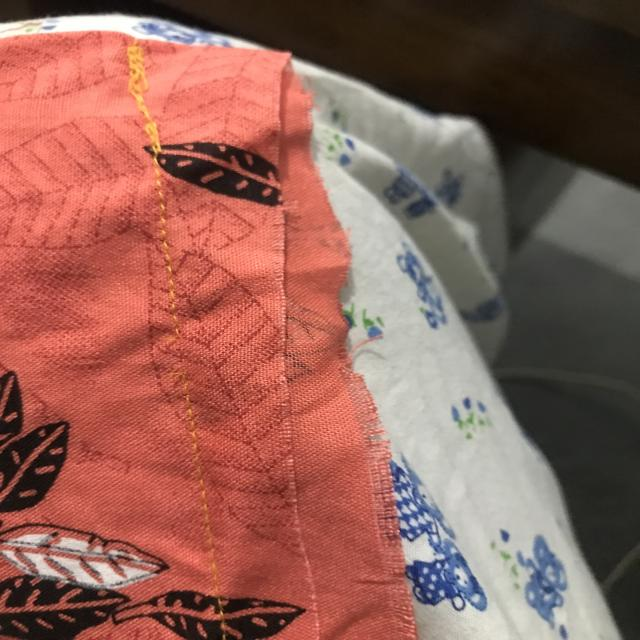good: (145, 182, 186, 292)
